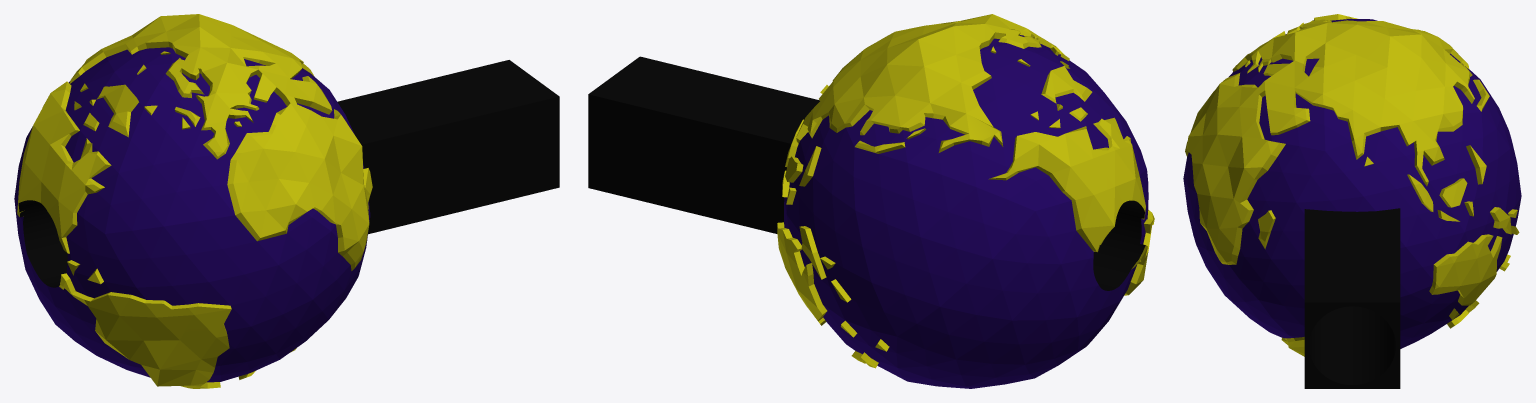
The model's file is earthWork6.glb.
The picture shows the model from 3 angles, left to right: view 1: azimuth 30°, elevation 25°; view 2: azimuth 150°, elevation 25°; view 3: azimuth 270°, elevation 25°; orthographic projection. The views are drawn at different scales.
Visible parts, largest first — view 1: earth4, Cube; view 2: earth4, Cube; view 3: earth4, Cube.
Boxes of the visible parts, <box> form: earth4: <box>14,14,372,388</box>; Cube: <box>37,60,559,234</box>; earth4: <box>777,14,1154,388</box>; Cube: <box>588,56,1127,281</box>; earth4: <box>1183,14,1521,356</box>; Cube: <box>1304,208,1400,388</box>.
Bounding box in the file's own units: 138 × 90.26 × 85.11.
